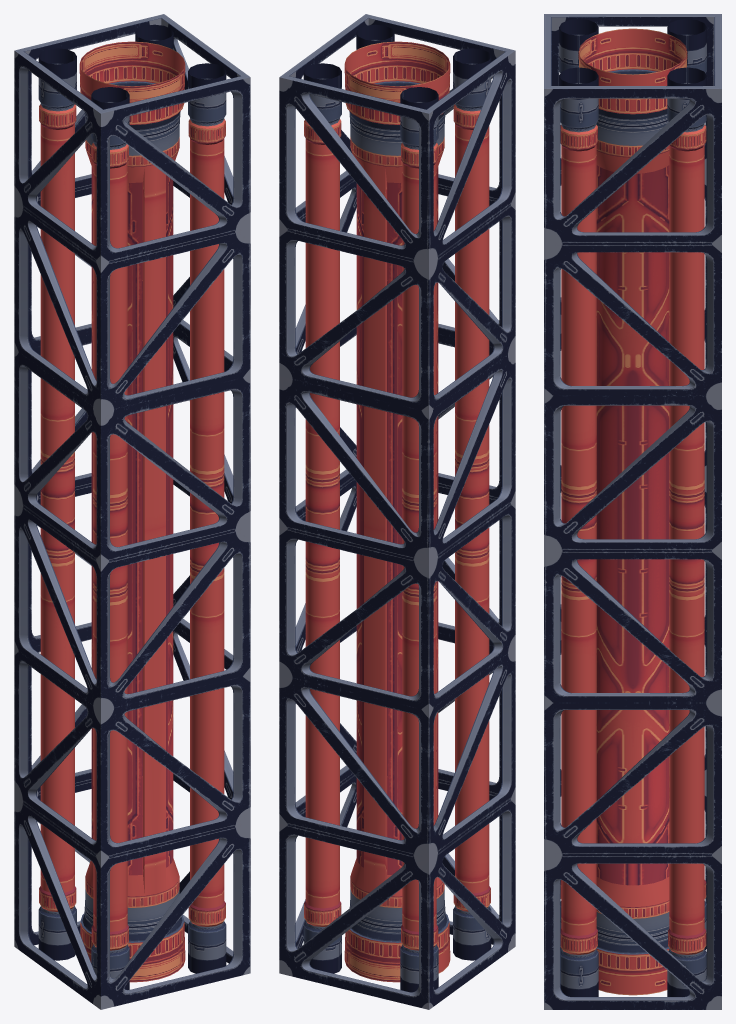
File: Column_Pipes.gltf
The picture shows the model from 3 angles, left to right: view 1: azimuth 30°, elevation 25°; view 2: azimuth 150°, elevation 25°; view 3: azimuth 270°, elevation 25°; orthographic projection. The views are drawn at different scales.
Visible parts, largest first — view 1: Column_Pipes; view 2: Column_Pipes; view 3: Column_Pipes.
Boxes of the visible parts, box(x1,y1,x2,y2) form: Column_Pipes: box(14, 14, 250, 1009); Column_Pipes: box(279, 14, 515, 1009); Column_Pipes: box(544, 14, 721, 1009).
Bounding box in the file's own units: 0.8746 × 5 × 0.8746.
3 materials, 3 textured.
